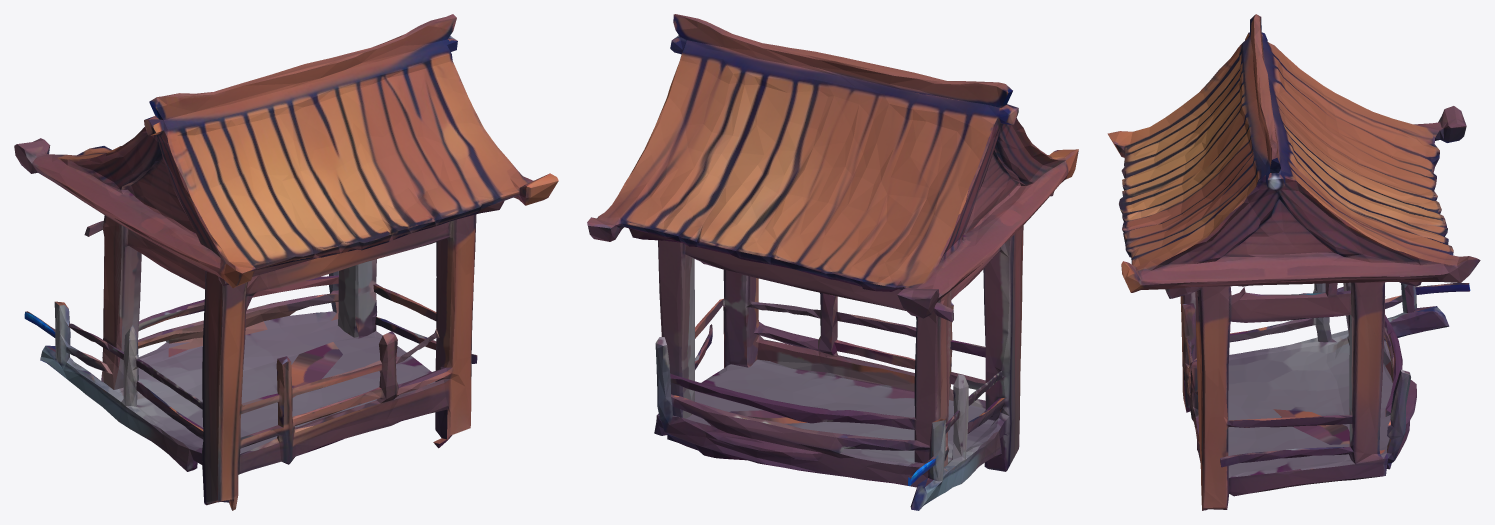
The model's file is roof.glb.
The picture shows the model from 3 angles, left to right: view 1: azimuth 30°, elevation 25°; view 2: azimuth 150°, elevation 25°; view 3: azimuth 270°, elevation 25°; orthographic projection. The views are drawn at different scales.
Visible parts, largest first — view 1: tmpcscfpk35.ply; view 2: tmpcscfpk35.ply; view 3: tmpcscfpk35.ply.
Boxes of the visible parts, <box> form: tmpcscfpk35.ply: <box>14,14,558,510</box>; tmpcscfpk35.ply: <box>587,14,1078,510</box>; tmpcscfpk35.ply: <box>1107,14,1480,510</box>.
Size of the model in its own units: 1.93 by 1.98 by 1.76.
Materials: 1 (1 with a texture image).
